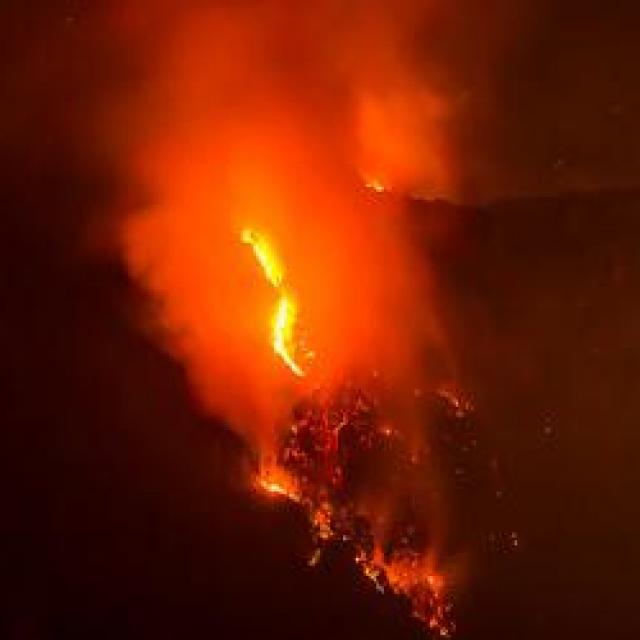fire: (248, 210, 298, 372), (245, 472, 313, 508)
smoke: (100, 133, 234, 364), (330, 0, 466, 197), (96, 5, 266, 160), (334, 190, 462, 386), (422, 489, 449, 535)
